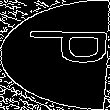P_E: (4, 35, 106, 75)
